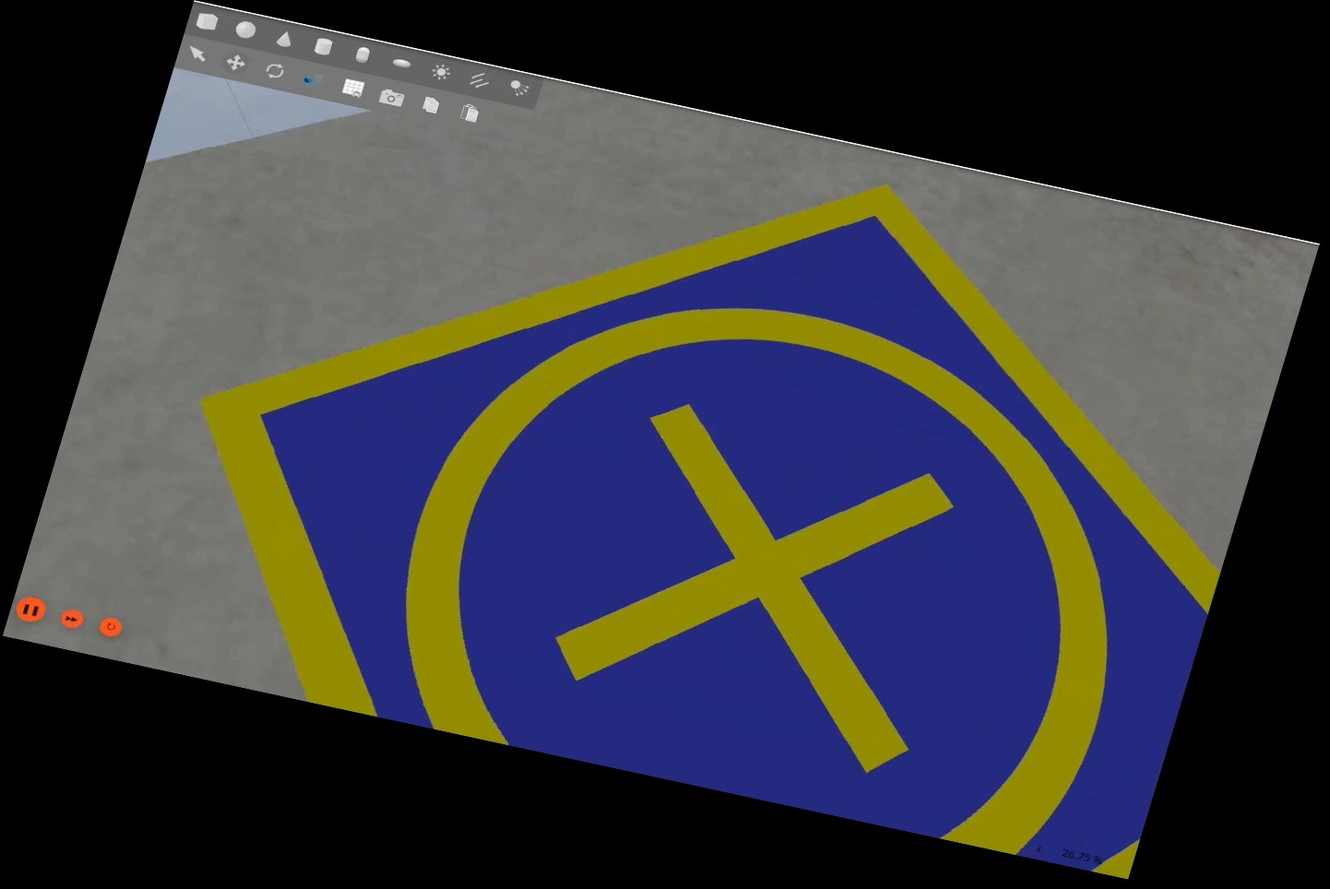small_base: (126, 58, 1313, 878)
